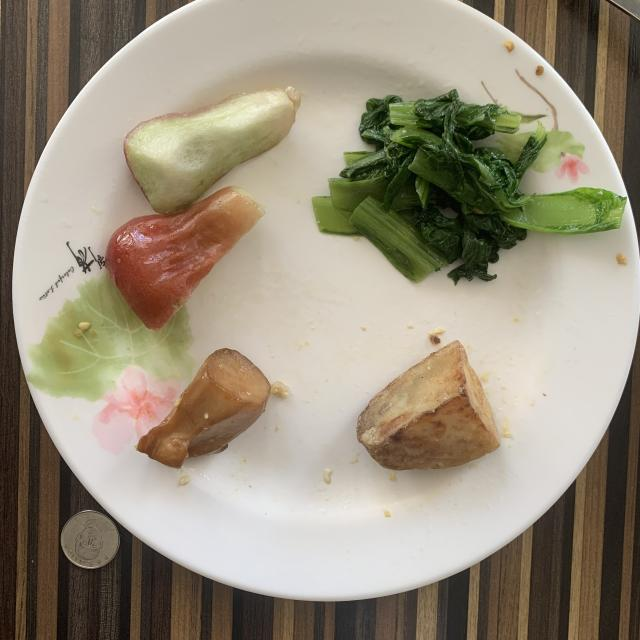coin: (61, 510, 120, 569)
fried potato: (356, 341, 500, 470)
mustard greens: (312, 90, 626, 282)
